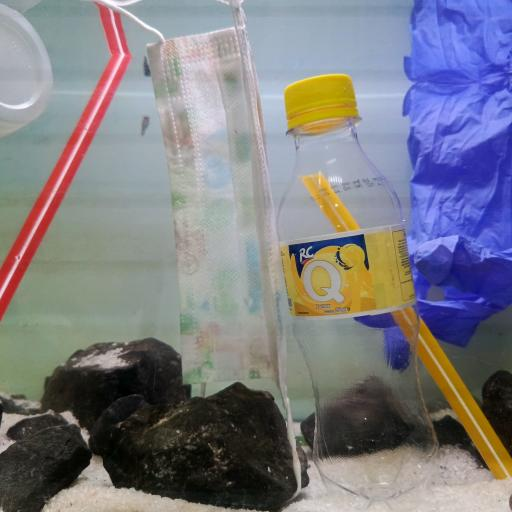bottle_cap: (284, 74, 358, 118)
glove: (360, 0, 512, 368)
mask: (143, 20, 286, 403)
plastic_bottle: (280, 72, 440, 504)
plastic_cup: (0, 4, 55, 138)
plastic_straw: (304, 169, 510, 481), (0, 51, 134, 319), (94, 2, 132, 56)
